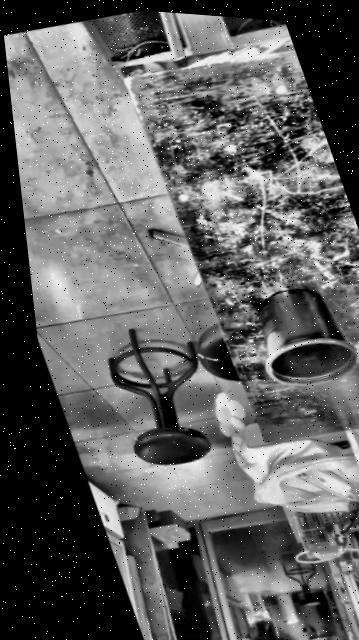pot: (239, 277, 359, 398)
